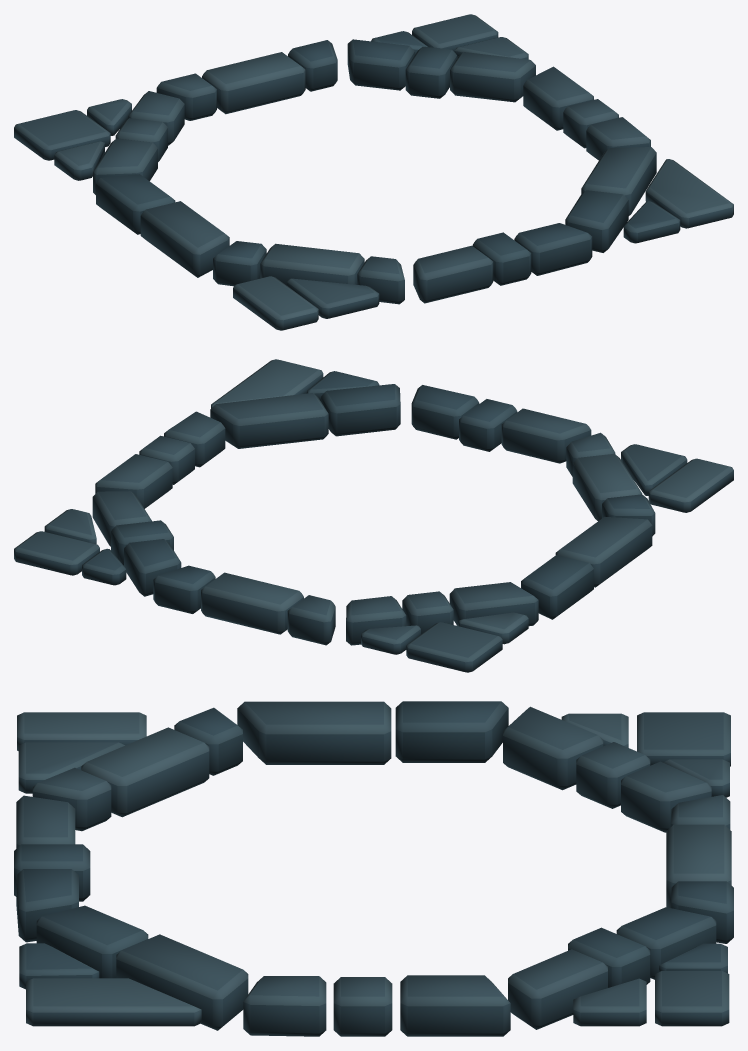
The model's file is stone_circle.fbx.
3 renders of one model, top to bottom at view 1: azimuth 30°, elevation 25°; view 2: azimuth 150°, elevation 25°; view 3: azimuth 270°, elevation 25°, orthographic. The views are drawn at different scales.
Parts seen in each view (by area): view 1: stone_circle; view 2: stone_circle; view 3: stone_circle.
Part boxes in pixels (left/top/right/bottom): stone_circle: left=14, top=14, right=733, bottom=330; stone_circle: left=14, top=359, right=733, bottom=672; stone_circle: left=14, top=701, right=733, bottom=1036.
Size of the model in its own units: 592 by 36.82 by 597.
